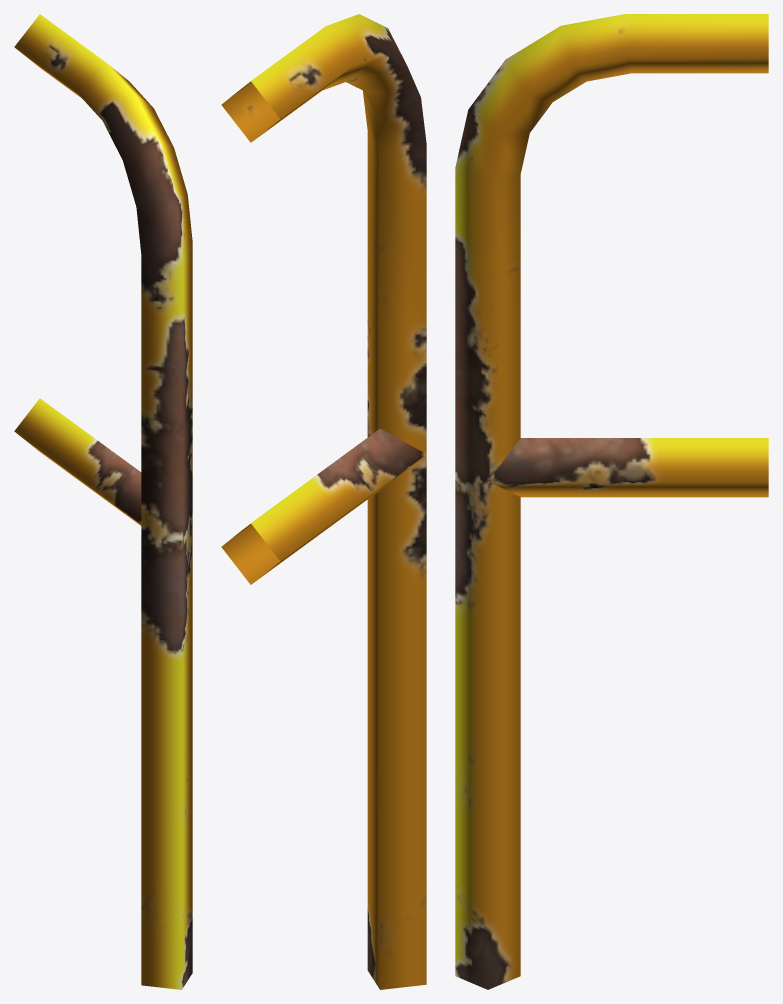
File: safetyRail_end02.fbx
3 views of the same model, side by side, from view 1: azimuth 30°, elevation 25°; view 2: azimuth 150°, elevation 25°; view 3: azimuth 270°, elevation 25° (orthographic). The views are drawn at different scales.
Parts seen in each view (by area): view 1: safetyRail_end02; view 2: safetyRail_end02; view 3: safetyRail_end02.
Boxes of the visible parts, x1,y1,x2,y2 form: safetyRail_end02: [14, 14, 192, 989]; safetyRail_end02: [221, 14, 426, 989]; safetyRail_end02: [455, 14, 768, 989].
Size of the model in its own units: 7 by 113 by 33.5.
